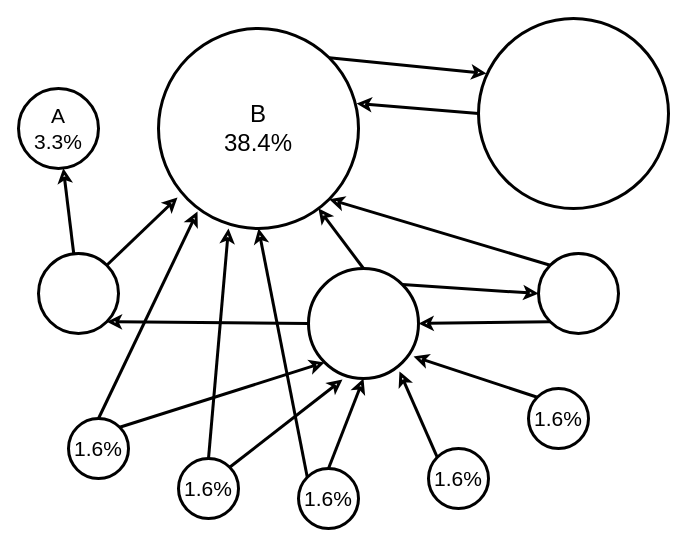
This 687x547 diagram has some shape labels left out. Here are the shapes that lost their labels. From the top down, the box of each, then its label:
(476, 16, 670, 210): C 34.3%
(36, 252, 120, 334): D 3.9%
(536, 252, 620, 334): F 3.9%
(306, 266, 420, 380): E 8.1%
